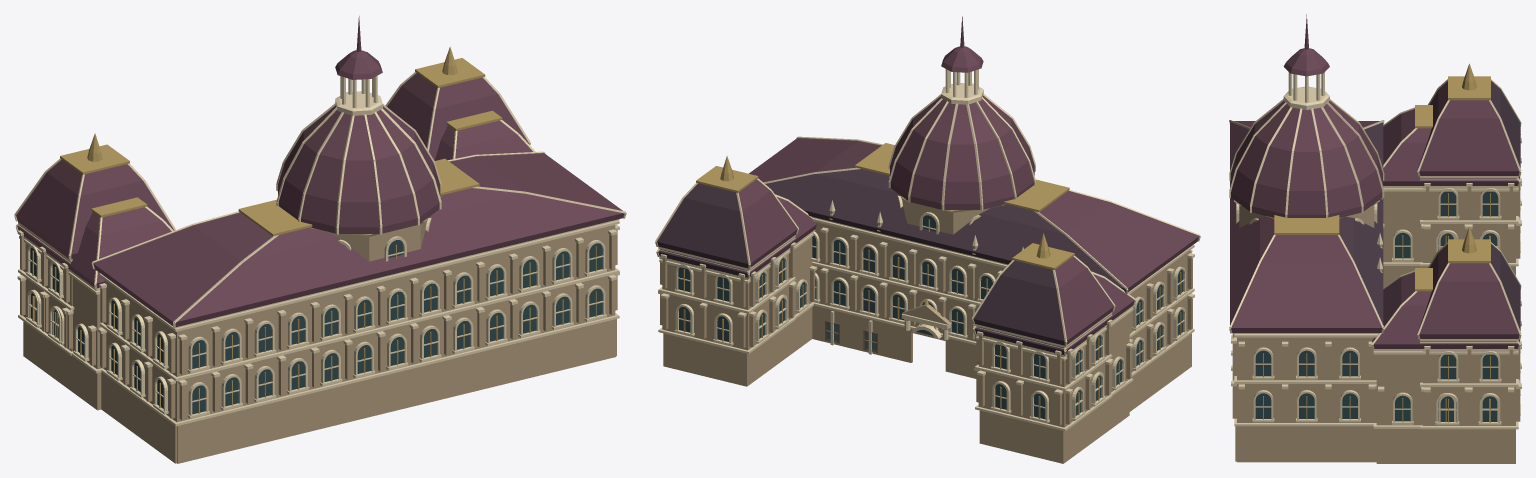
Rendered from WalkTown_Palace_Cover.fbx.
The picture shows the model from 3 angles, left to right: view 1: azimuth 30°, elevation 25°; view 2: azimuth 150°, elevation 25°; view 3: azimuth 270°, elevation 25°; orthographic projection. The views are drawn at different scales.
Parts seen in each view (by area): view 1: WalkTown_Palace_Cover; view 2: WalkTown_Palace_Cover; view 3: WalkTown_Palace_Cover.
Boxes of the visible parts, x1,y1,x2,y2 form: WalkTown_Palace_Cover: [14, 16, 626, 463]; WalkTown_Palace_Cover: [655, 16, 1200, 463]; WalkTown_Palace_Cover: [1229, 14, 1521, 463].
Bounding box in the file's own units: 43.23 × 32.95 × 25.21.
